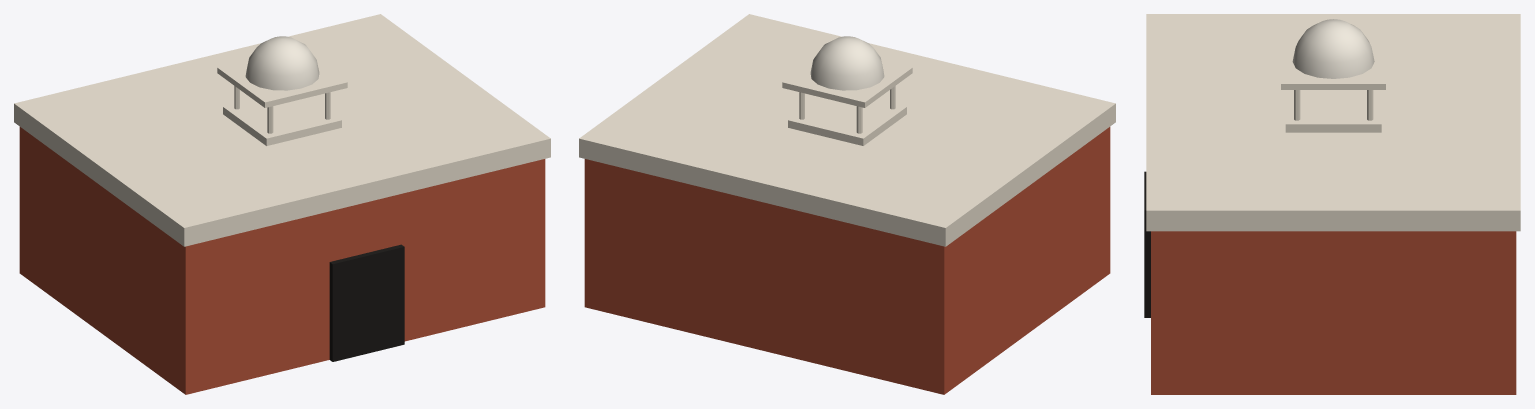
Rendered from granary.glb.
3 views of the same model, side by side, from view 1: azimuth 30°, elevation 25°; view 2: azimuth 150°, elevation 25°; view 3: azimuth 270°, elevation 25° (orthographic). The views are drawn at different scales.
Parts seen in each view (by area): view 1: Granary; view 2: Granary; view 3: Granary.
Part boxes in pixels (x1,y1,x2,y2): Granary: (14, 14, 550, 394); Granary: (579, 14, 1115, 394); Granary: (1144, 14, 1520, 394).
Size of the model in its own units: 10.2 by 6.66 by 8.25.
